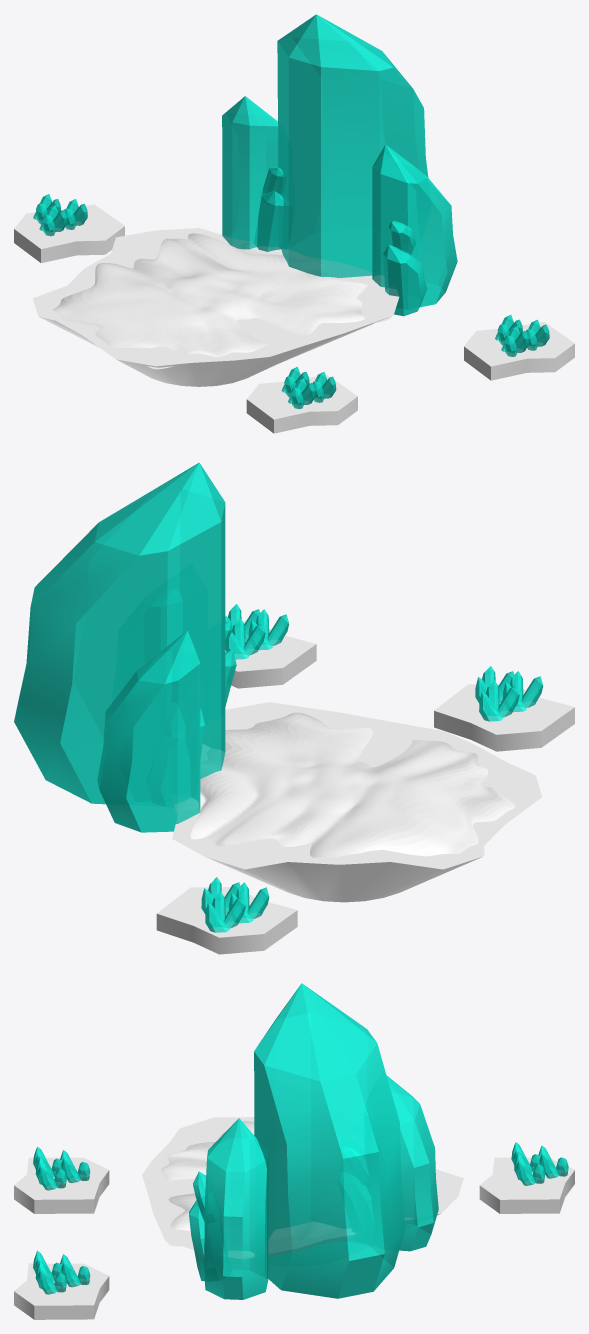
File: Ice Arena.FBX
The picture shows the model from 3 angles, top to bottom: view 1: azimuth 30°, elevation 25°; view 2: azimuth 150°, elevation 25°; view 3: azimuth 270°, elevation 25°; orthographic projection. The views are drawn at different scales.
Visible parts, largest first — view 1: Ice_Crystalls, Snow, Land, shard, Shard, Island 3, Island2, island; view 2: Ice_Crystalls, Snow, Land, Shard, Island2, Island 3, island, shard; view 3: Ice_Crystalls, shard, Shard, Land, Island 3, island, Island2, Snow.
Boxes of the visible parts, x1=… form: Ice_Crystalls: x1=33, y1=14, x2=549, y2=408; Snow: x1=53, y1=233, x2=391, y2=369; Land: x1=32, y1=228, x2=399, y2=386; shard: x1=372, y1=144, x2=457, y2=316; Shard: x1=222, y1=96, x2=292, y2=251; Island 3: x1=14, y1=204, x2=124, y2=263; Island2: x1=246, y1=375, x2=357, y2=433; island: x1=464, y1=322, x2=574, y2=380; Ice_Crystalls: x1=14, y1=462, x2=543, y2=932; Snow: x1=174, y1=712, x2=515, y2=857; Land: x1=172, y1=702, x2=542, y2=902; Shard: x1=97, y1=630, x2=204, y2=832; Island2: x1=434, y1=684, x2=574, y2=751; Island 3: x1=156, y1=887, x2=297, y2=954; island: x1=225, y1=621, x2=316, y2=688; shard: x1=145, y1=590, x2=236, y2=706; Ice_Crystalls: x1=33, y1=983, x2=568, y2=1298; shard: x1=189, y1=1118, x2=268, y2=1299; Shard: x1=337, y1=1075, x2=438, y2=1251; Land: x1=142, y1=1117, x2=463, y2=1259; Island 3: x1=479, y1=1157, x2=574, y2=1213; island: x1=14, y1=1263, x2=109, y2=1319; Island2: x1=14, y1=1157, x2=109, y2=1213; Snow: x1=161, y1=1121, x2=351, y2=1246.
Bounding box in the file's own units: 813 × 630 × 1020.
